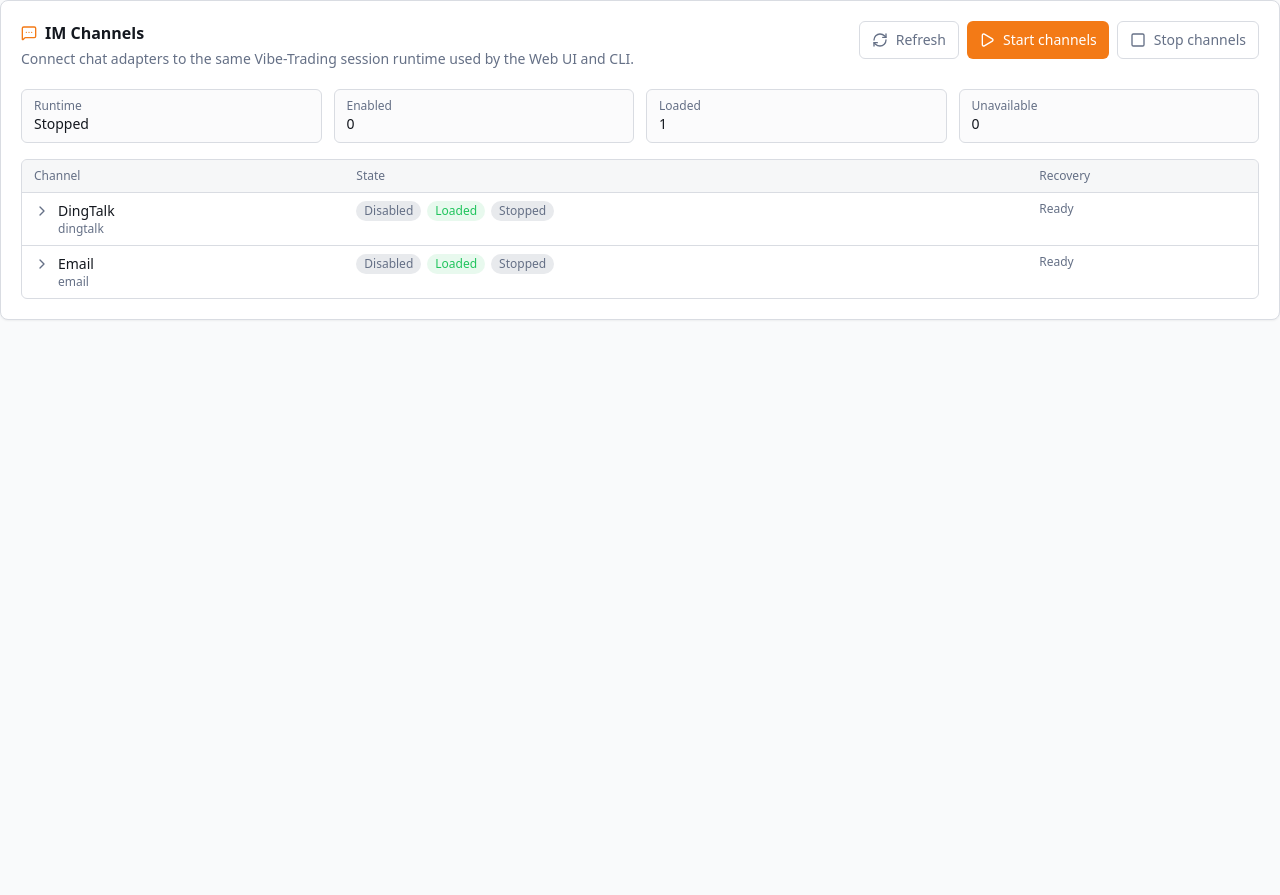
Scenario: ChannelSettings config panel › renders every Email field from the backend help_keys with localized labels
The image size is (1280, 895).
Expected: the heading "IM Channels" is shown, [45,21,144,45]
Click the button "Email email" at (64, 272), box [34,254,94,290]
(page scrolled)
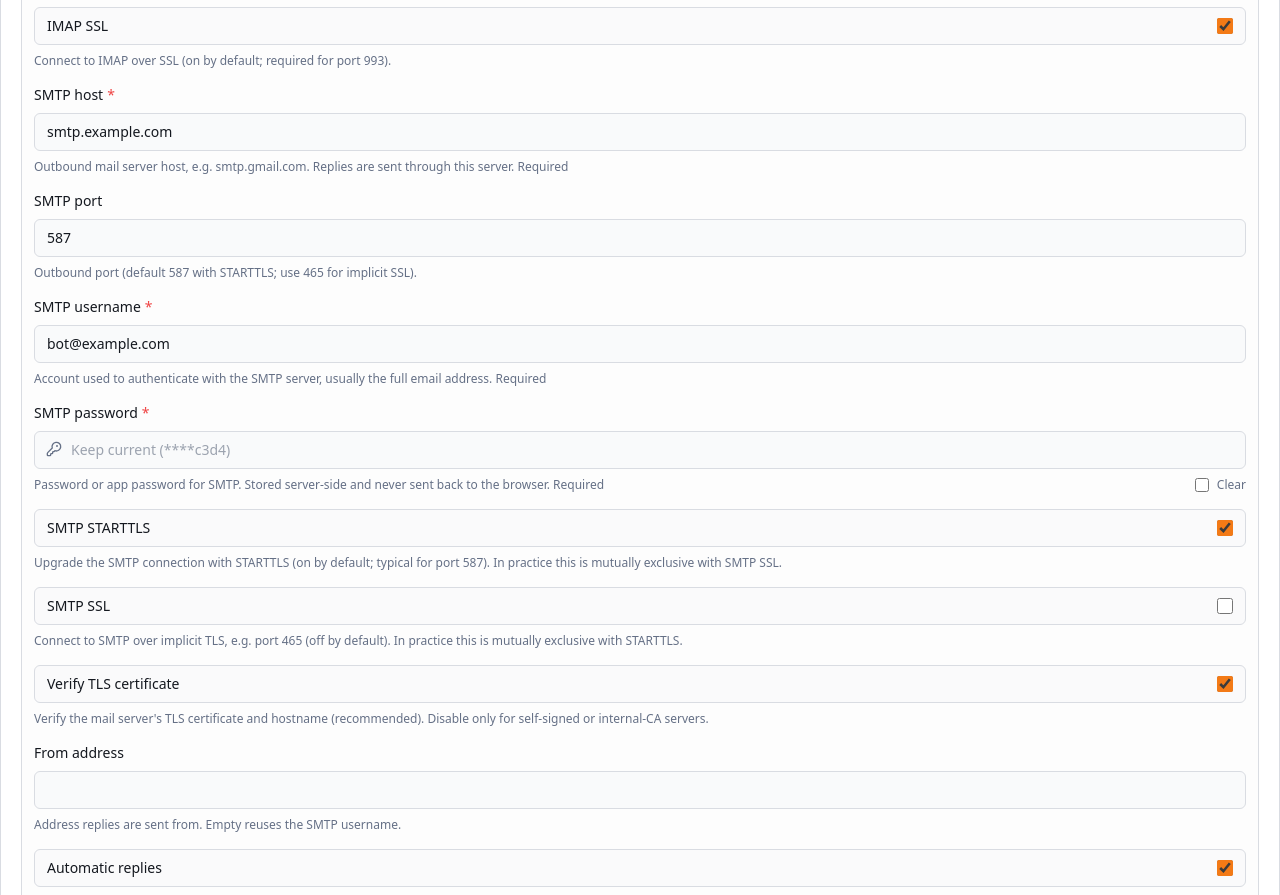
Now the text "SMTP host" is shown, box [34,85,103,104]
Now the text "From address" is shown, box [34,743,124,762]
Now the text "Automatic replies" is shown, box [47,858,162,878]
